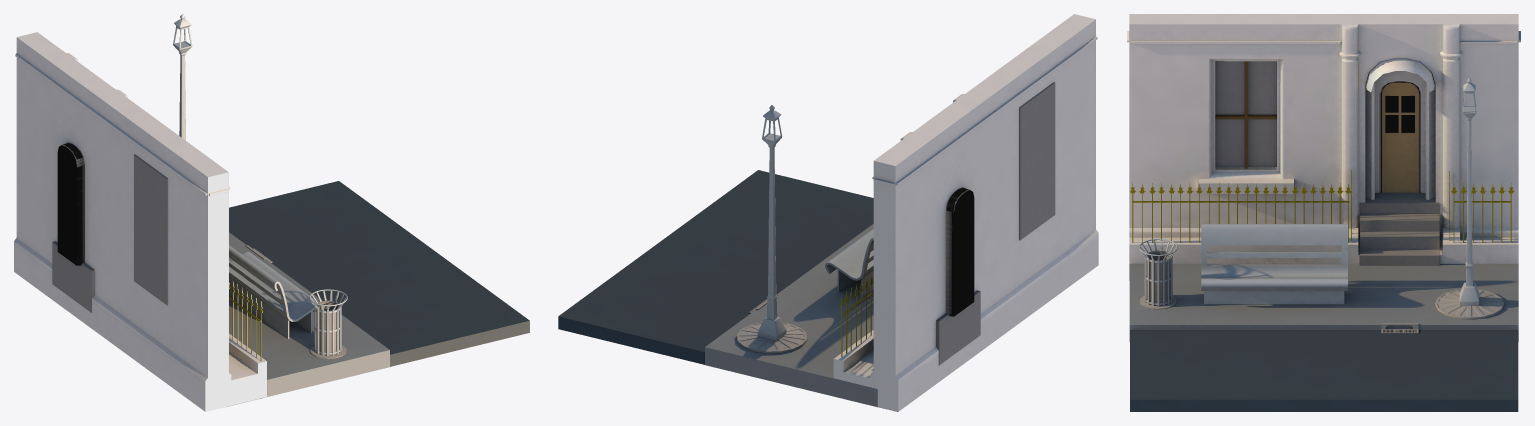
3 views of the same model, side by side, from view 1: azimuth 30°, elevation 25°; view 2: azimuth 150°, elevation 25°; view 3: azimuth 270°, elevation 25° (orthographic). The views are drawn at different scales.
Visible parts, largest first — view 1: Murs, route, Trottoir, Fer, Vitre, Escalier, Barrieres, Interieur_poubelle; view 2: Murs, route, Trottoir, Vitre, Fer, Escalier, Socle, Barrieres; view 3: Murs, route, Trottoir, Fer, Vitre, Escalier, Barrieres, Porte_, Socle, Interieur_poubelle, Barreaux.
Part boxes in pixels (x1,y1,x2,y2): Murs: [14, 32, 266, 411]; route: [229, 181, 529, 366]; Trottoir: [225, 232, 389, 407]; Fer: [173, 14, 347, 355]; Vitre: [134, 154, 167, 305]; Escalier: [52, 241, 94, 312]; Barrieres: [229, 281, 262, 398]; Interieur_poubelle: [316, 301, 339, 352]; Murs: [833, 14, 1098, 411]; route: [558, 170, 897, 411]; Trottoir: [705, 224, 877, 407]; Vitre: [1019, 82, 1055, 240]; Fer: [757, 105, 873, 340]; Escalier: [936, 290, 980, 365]; Socle: [736, 295, 806, 353]; Barrieres: [840, 273, 872, 356]; Murs: [1127, 14, 1520, 280]; route: [1130, 330, 1518, 411]; Trottoir: [1129, 264, 1518, 341]; Fer: [1139, 78, 1479, 306]; Vitre: [1215, 61, 1276, 166]; Escalier: [1360, 192, 1439, 265]; Barrieres: [1129, 169, 1514, 242]; Porte_: [1382, 82, 1419, 192]; Socle: [1139, 289, 1503, 333]; Interieur_poubelle: [1146, 251, 1170, 302]; Barreaux: [1215, 61, 1276, 168].
Bounding box in the file's own units: 584 × 413 × 594.
Materials: 11 (11 with a texture image).
